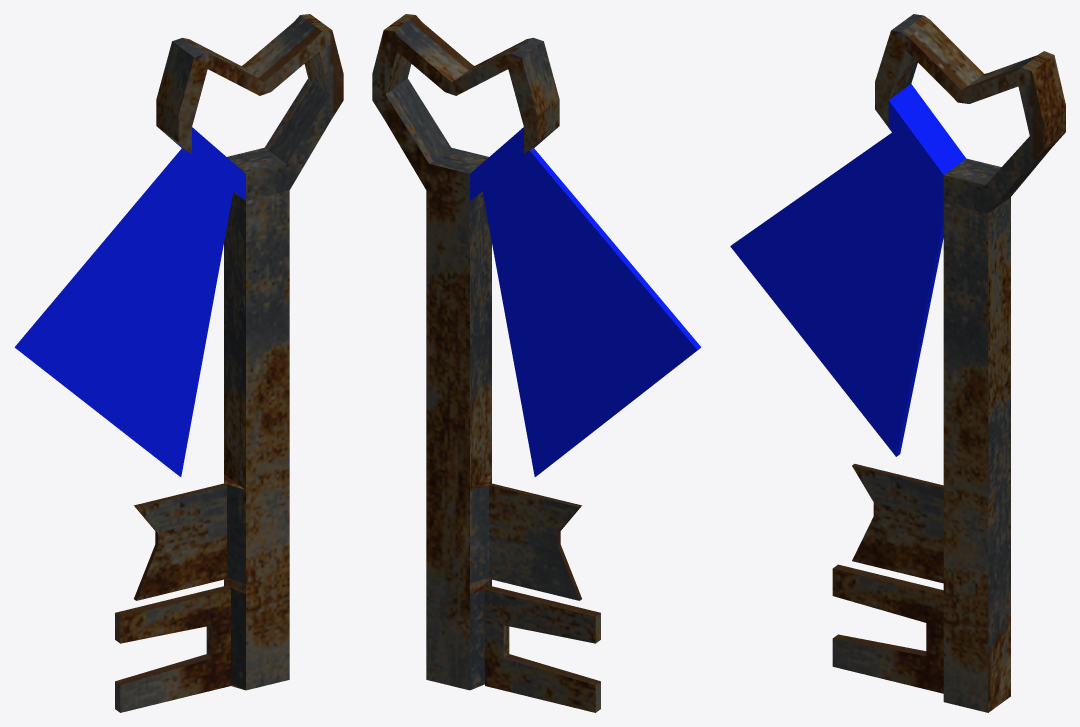
The model's file is key01.fbx.
The picture shows the model from 3 angles, left to right: view 1: azimuth 30°, elevation 25°; view 2: azimuth 150°, elevation 25°; view 3: azimuth 330°, elevation 25°; orthographic projection. The views are drawn at different scales.
Parts seen in each view (by area): view 1: Cube; view 2: Cube; view 3: Cube.
Boxes of the visible parts, x1,y1,x2,y2 form: Cube: (14, 14, 343, 712); Cube: (372, 14, 701, 712); Cube: (730, 14, 1065, 712).
Size of the model in its own units: 13.76 by 26.91 by 1.67.
Materials: 1 (1 with a texture image).
